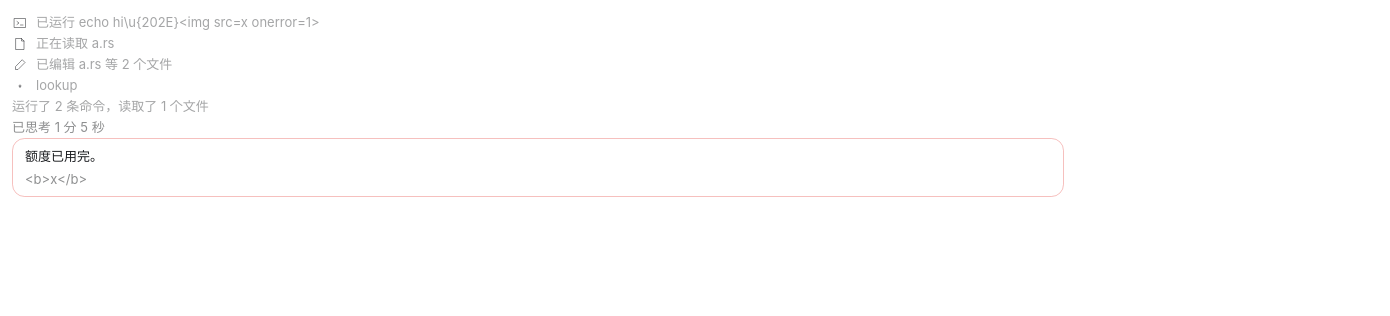
UNIT-md-injection › tool, thought and error rows show agent text as text, invisible characters escaped
The width and height of the screenshot is (1390, 316).
What coordinates should you click on to do the following:
click the button "已运行 echo hi\\u{202E}<img src=x onerror=1>"
I would click on:
 (178, 22)
Its box is x1=12 y1=12 x2=1378 y2=33.
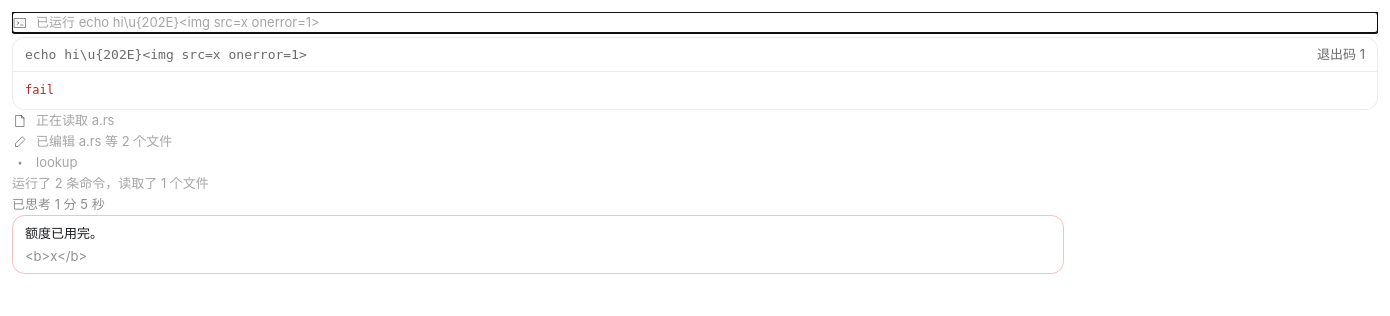
What coordinates should you click on to do the following:
click the button "已思考 1 分 5 秒"
I would click on:
 (58, 204)
Its box is x1=12 y1=194 x2=105 y2=215.
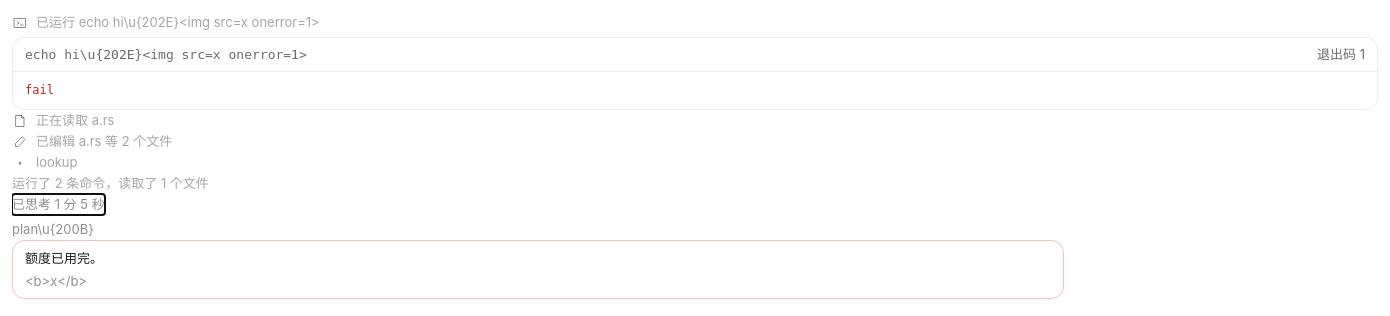
Expected: the text "<b>x</b>" is shown, x1=25 y1=273 x2=87 y2=289
Now the text "退出码 1" is shown, box x1=1317 y1=44 x2=1365 y2=65
Now the text "plan\\u{200B}" is shown, box x1=12 y1=221 x2=94 y2=237
